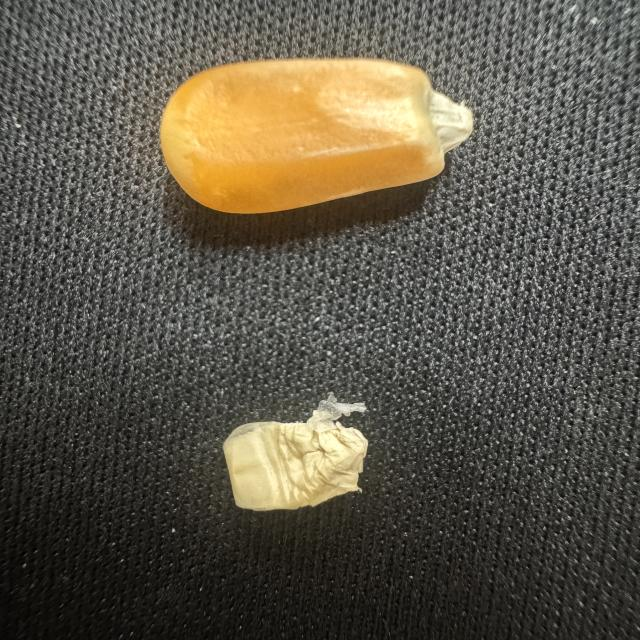Bad-Seed: (218, 388, 380, 526)
Good-Seed: (140, 51, 492, 224)
